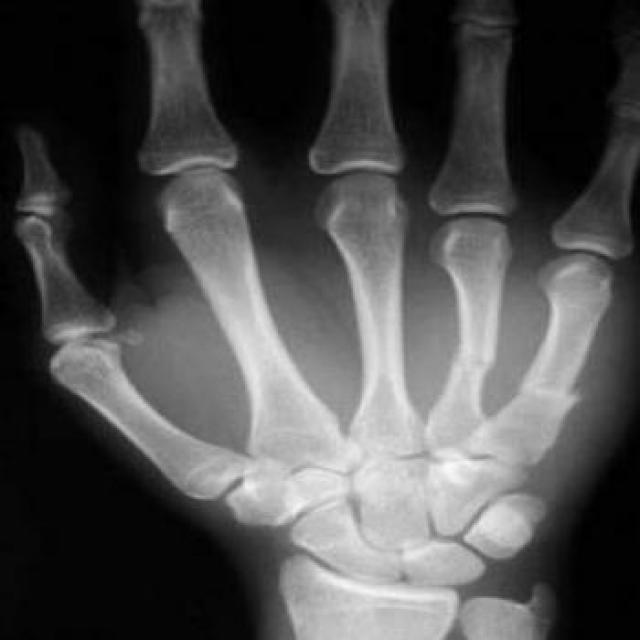Fracture: (516, 373, 606, 415), (441, 344, 509, 383)
